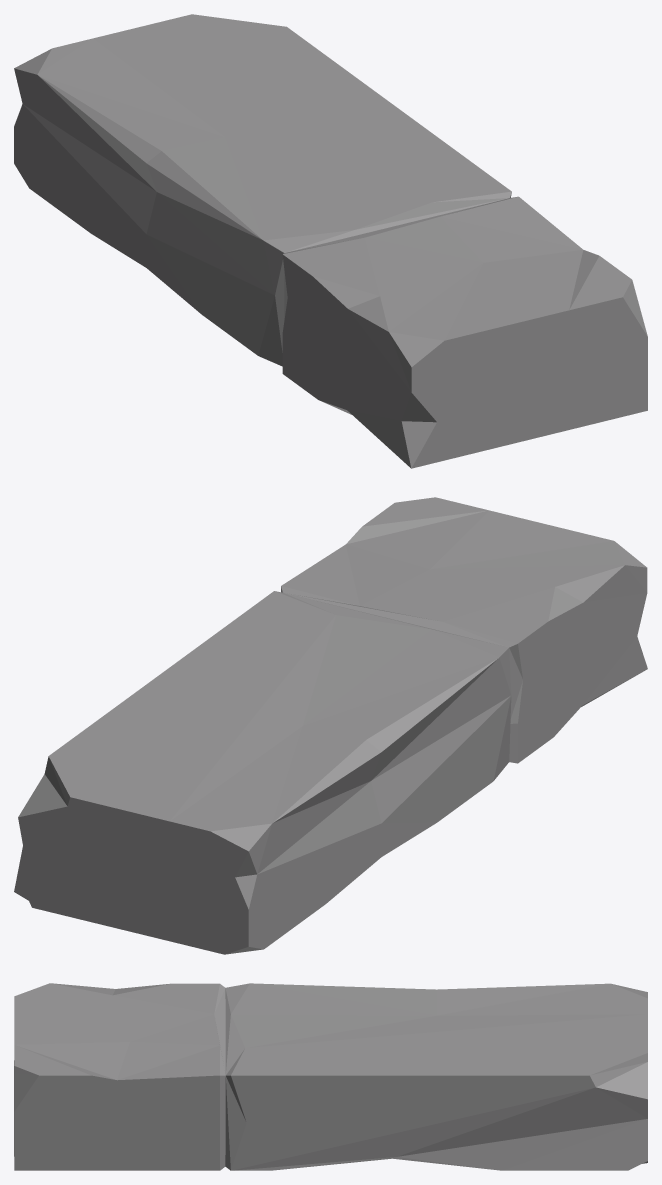
File: SFV_Wall_Support_Rock_M.fbx
3 renders of one model, top to bottom at view 1: azimuth 30°, elevation 25°; view 2: azimuth 150°, elevation 25°; view 3: azimuth 270°, elevation 25°, orthographic. The views are drawn at different scales.
Parts seen in each view (by area): view 1: SFV_Wall_Support_Rock_M; view 2: SFV_Wall_Support_Rock_M; view 3: SFV_Wall_Support_Rock_M.
Part boxes in pixels (box(x1,y1,x2,y2)): SFV_Wall_Support_Rock_M: box(14, 14, 647, 468); SFV_Wall_Support_Rock_M: box(14, 497, 647, 954); SFV_Wall_Support_Rock_M: box(14, 983, 647, 1170).
Size of the model in its own units: 103 by 50 by 300.
